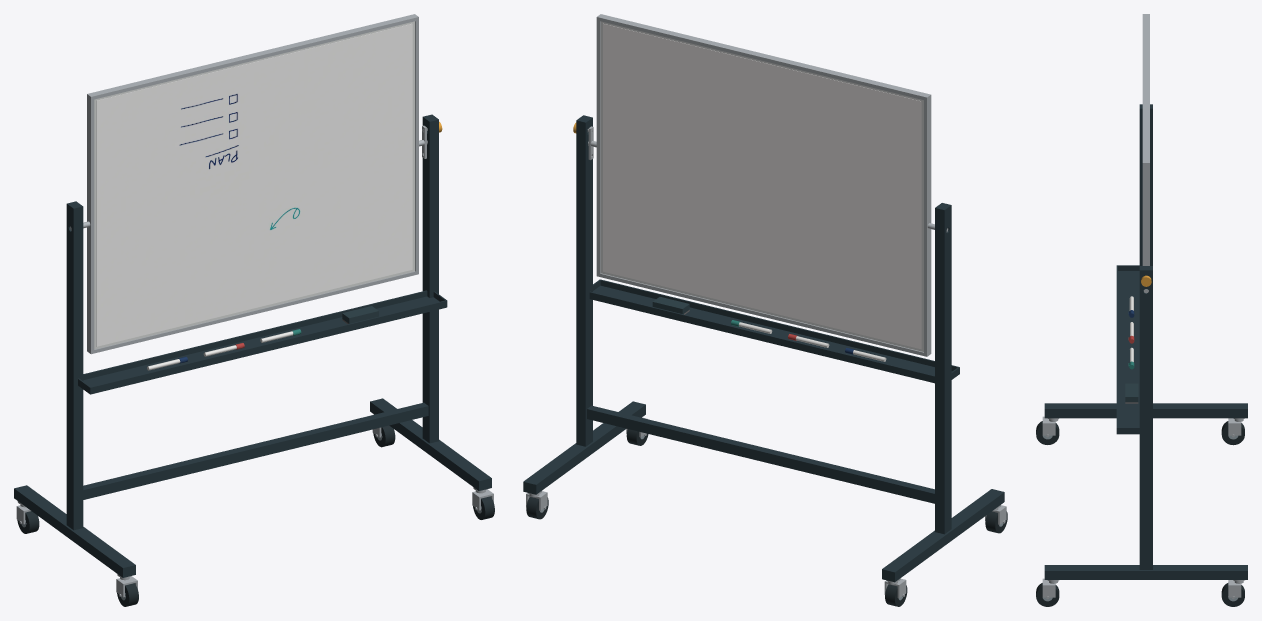
Rendered from mobile_whiteboard.glb.
3 views of the same model, side by side, from view 1: azimuth 30°, elevation 25°; view 2: azimuth 150°, elevation 25°; view 3: azimuth 270°, elevation 25° (orthographic). The views are drawn at different scales.
Visible parts, largest first — view 1: Front_mesh, Felt_mesh; view 2: Felt_mesh; view 3: Felt_mesh.
Part boxes in pixels (<box>): Front_mesh: <box>96,23,412,346</box>; Felt_mesh: <box>14,14,494,606</box>; Felt_mesh: <box>523,14,1007,606</box>; Felt_mesh: <box>1036,14,1247,606</box>.
Bounding box in the file's own units: 1.38 × 1.66 × 0.73.
Materials: 2 (2 with a texture image).
